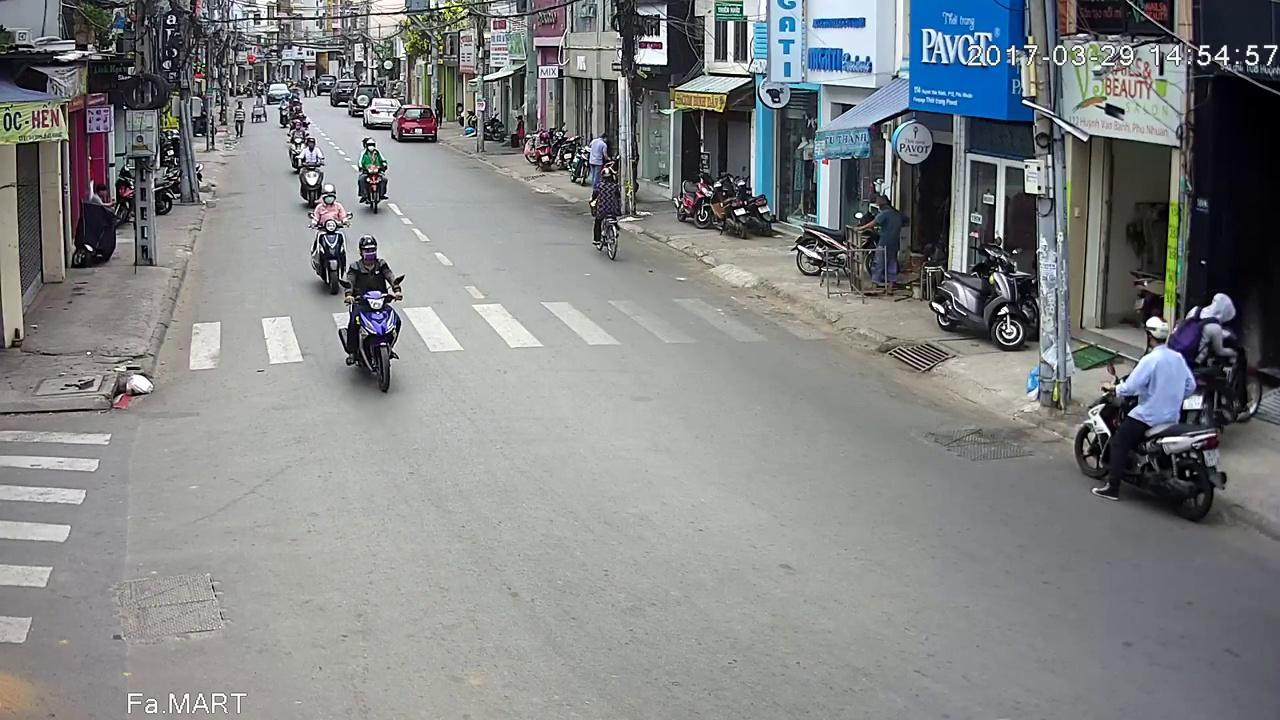xe dap: (591, 160, 622, 256)
xe hoi: (389, 103, 437, 141), (361, 97, 399, 129)
xe may: (1075, 314, 1227, 526), (340, 237, 405, 396), (311, 186, 355, 295), (354, 136, 389, 214), (296, 136, 321, 208), (288, 114, 311, 169)
